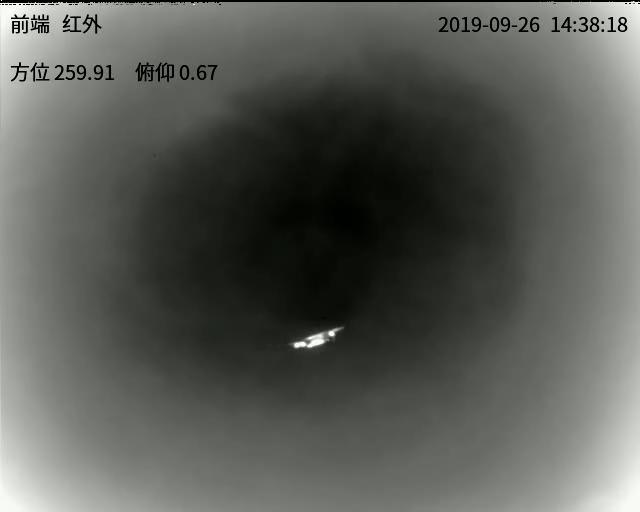uav: (282, 323, 342, 352)
